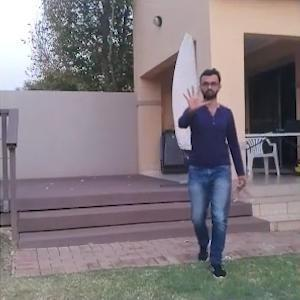follow_hand: (179, 80, 213, 117)
